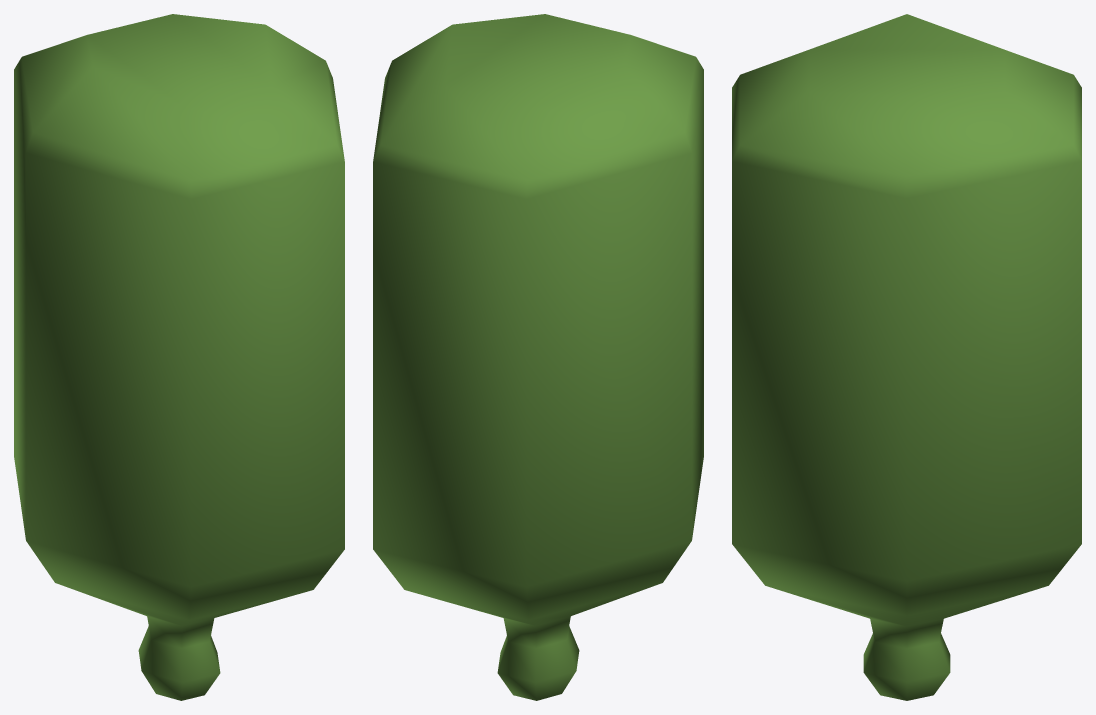
File: BottleFixed.fbx
3 renders of one model, left to right at view 1: azimuth 30°, elevation 25°; view 2: azimuth 150°, elevation 25°; view 3: azimuth 270°, elevation 25°, orthographic.
Visible parts, largest first — view 1: BottleRocket; view 2: BottleRocket; view 3: BottleRocket.
Part boxes in pixels (x1,y1,x2,y2): BottleRocket: (14, 14, 344, 700); BottleRocket: (373, 14, 703, 700); BottleRocket: (732, 14, 1081, 700).
Bounding box in the file's own units: 50 × 100 × 50.
